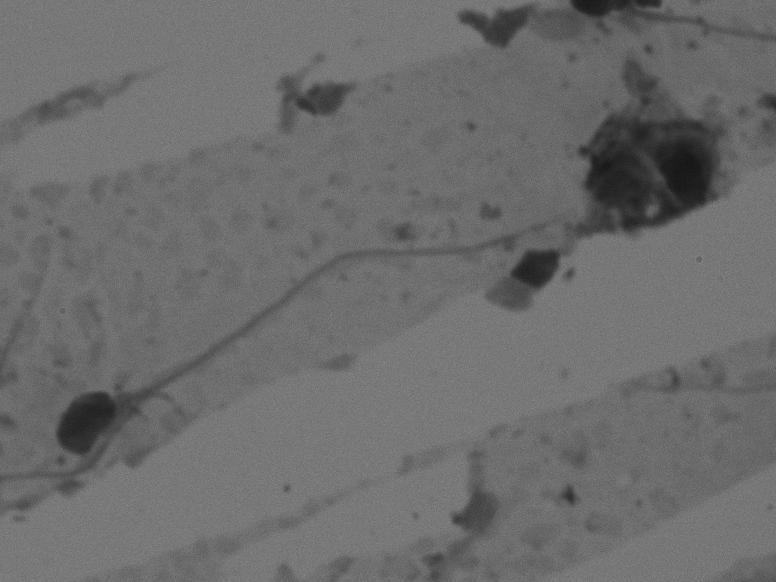Abnormal: (34, 160, 583, 475)
